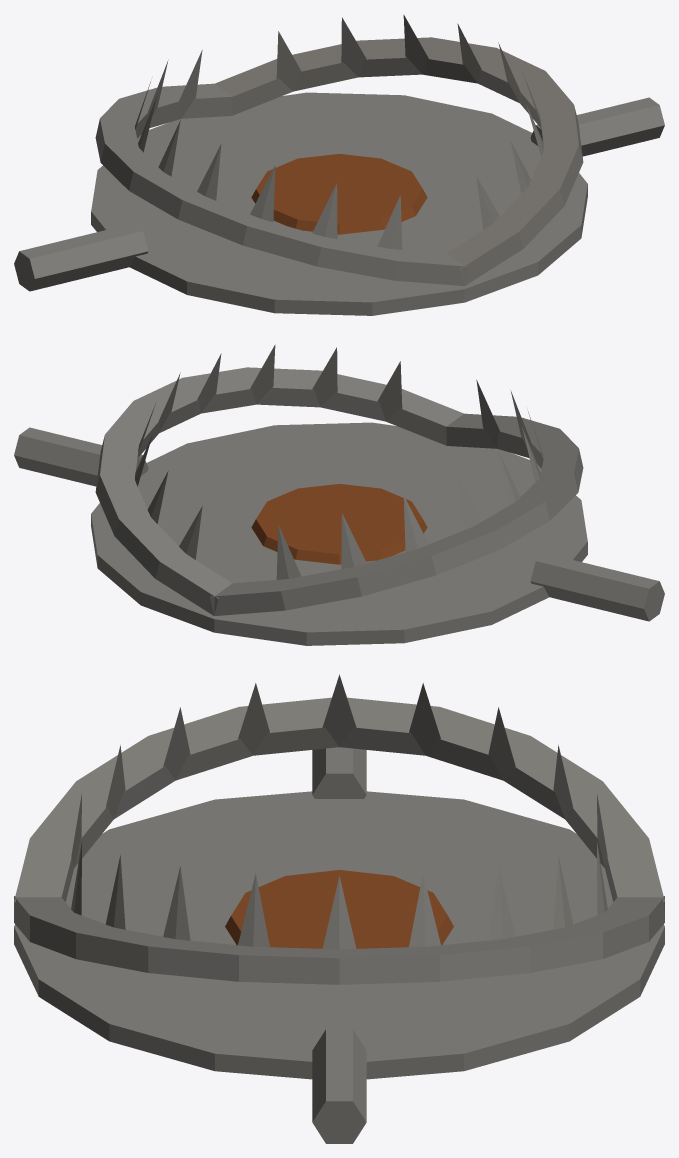
Rendered from bear_trap.glb.
3 renders of one model, top to bottom at view 1: azimuth 30°, elevation 25°; view 2: azimuth 150°, elevation 25°; view 3: azimuth 270°, elevation 25°, orthographic. The views are drawn at different scales.
Parts seen in each view (by area): view 1: Base, JawA_mesh, JawB_mesh, Plate, Spring, Spring.001; view 2: Base, JawA_mesh, JawB_mesh, Plate, Spring, Spring.001; view 3: Base, JawB_mesh, JawA_mesh, Plate, Spring.001, Spring.
Part boxes in pixels (box(x1,y1,x2,y2)): Base: box(91, 92, 587, 315); JawA_mesh: box(215, 14, 583, 285); JawB_mesh: box(95, 49, 468, 285); Plate: box(251, 154, 427, 234); Spring: box(14, 223, 148, 291); Spring.001: box(530, 97, 664, 156); Base: box(91, 422, 587, 645); JawA_mesh: box(95, 344, 463, 615); JawB_mesh: box(210, 379, 583, 615); Plate: box(251, 484, 427, 564); Spring: box(530, 553, 664, 621); Spring.001: box(14, 427, 148, 486); Base: box(14, 791, 664, 1079); JawB_mesh: box(14, 674, 664, 918); JawA_mesh: box(14, 842, 664, 984); Plate: box(225, 870, 453, 948); Spring.001: box(312, 1029, 366, 1143); Spring: box(312, 747, 366, 798).
Bounding box in the file's own units: 1.22 × 0.2411 × 0.84.
